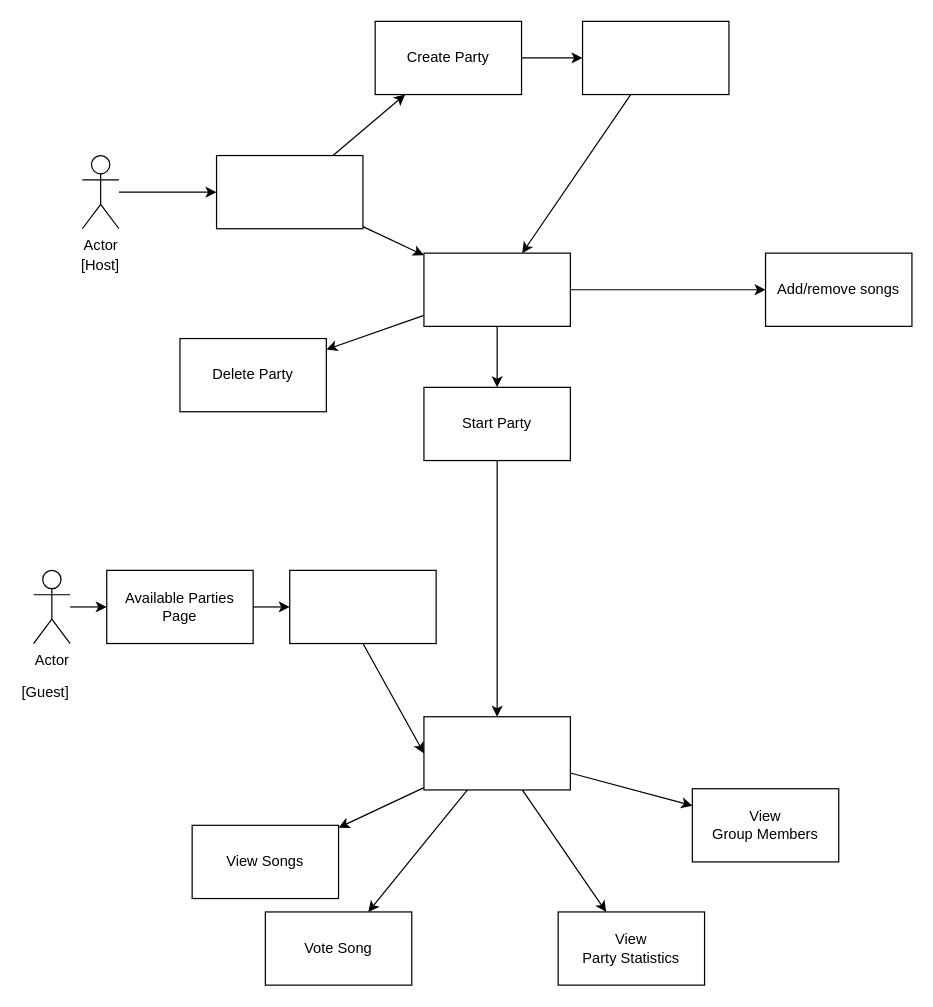
The diagram is 933 pixels wide and 1007 high, and some of its shapes have lost their labels. The shapes that lost their labels are listed below. From the top down, each one's centre as x and y in pixels, then its label:
At pixel 655 57: "Configure Party (name&location)".
At pixel 289 191: "MyParties Page".
At pixel 496 289: "Select from Party List".
At pixel 362 606: "Select from available parties list".
At pixel 496 753: "Party Main Page".
